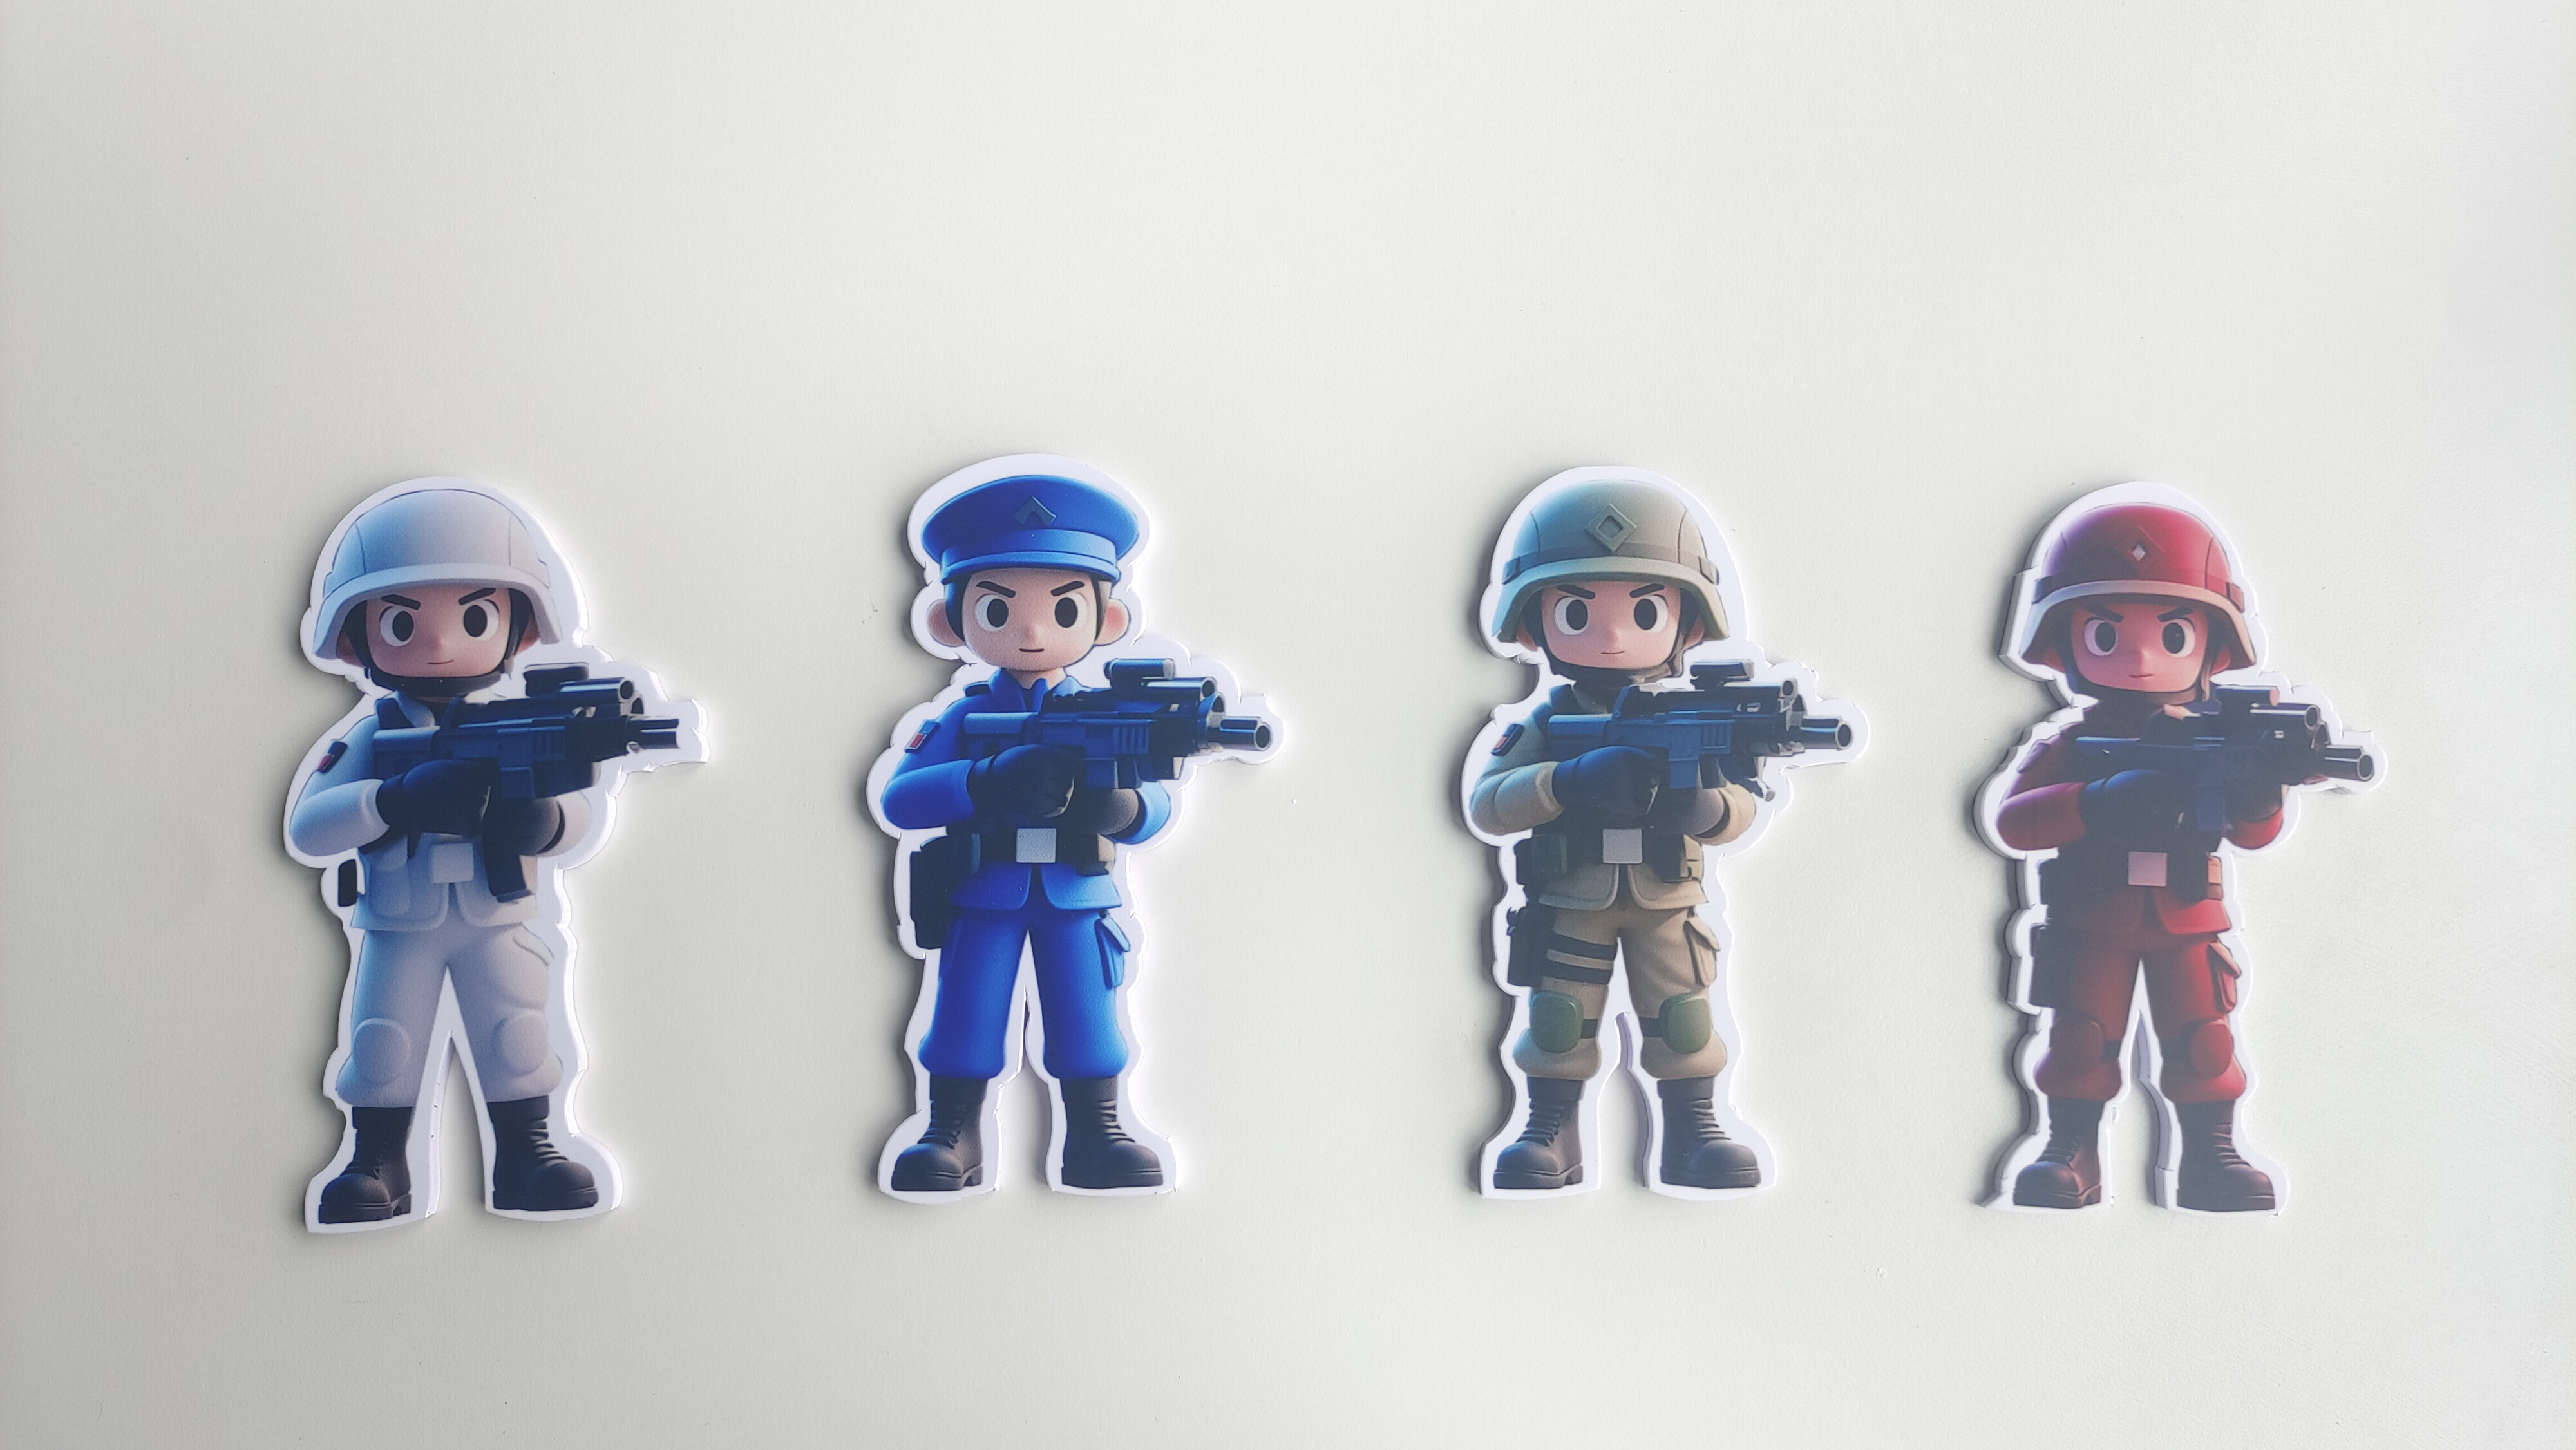enemy1: (1951, 686, 2319, 1227)
enemy2: (846, 686, 1198, 1208)
friend: (1445, 677, 1805, 1211)
hostage: (272, 702, 640, 1240)
